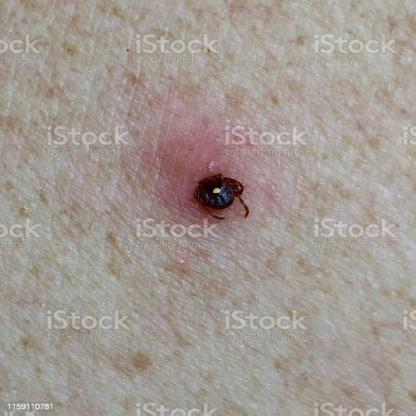Tick: (161, 136, 259, 223)
